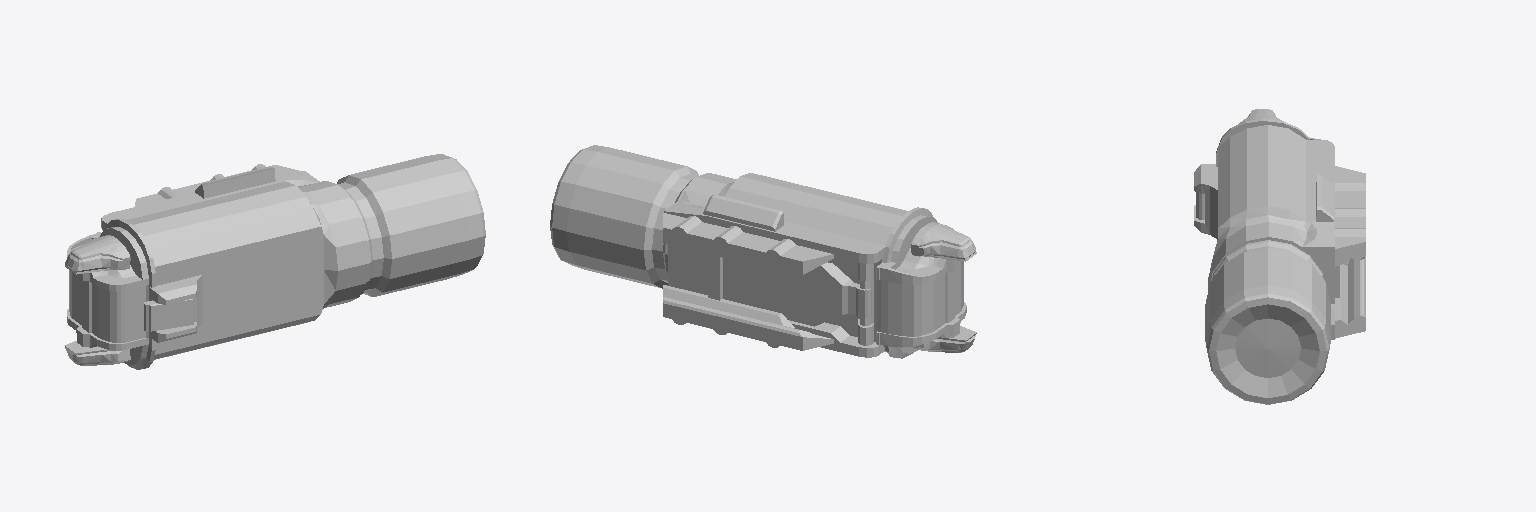
Rendered from tactical_flashlight.obj.
3 views of the same model, side by side, from view 1: azimuth 30°, elevation 25°; view 2: azimuth 150°, elevation 25°; view 3: azimuth 270°, elevation 25° (orthographic).
Visible parts, largest first — view 1: attachmentModel; view 2: attachmentModel; view 3: attachmentModel.
Part boxes in pixels (x1,y1,x2,y2): attachmentModel: (65, 154, 485, 369); attachmentModel: (550, 145, 976, 358); attachmentModel: (1194, 109, 1365, 404).
Bounding box in the file's own units: 1.76 × 0.6082 × 0.6698.